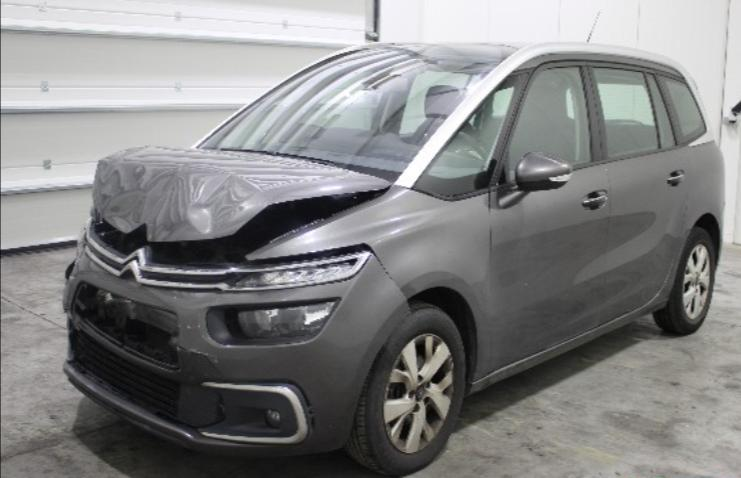Broken part: (87, 145, 393, 271), (233, 241, 411, 315), (73, 284, 179, 365)
Dent: (92, 154, 263, 241)
Scratch: (187, 348, 218, 364), (178, 323, 204, 330), (177, 344, 190, 355)
